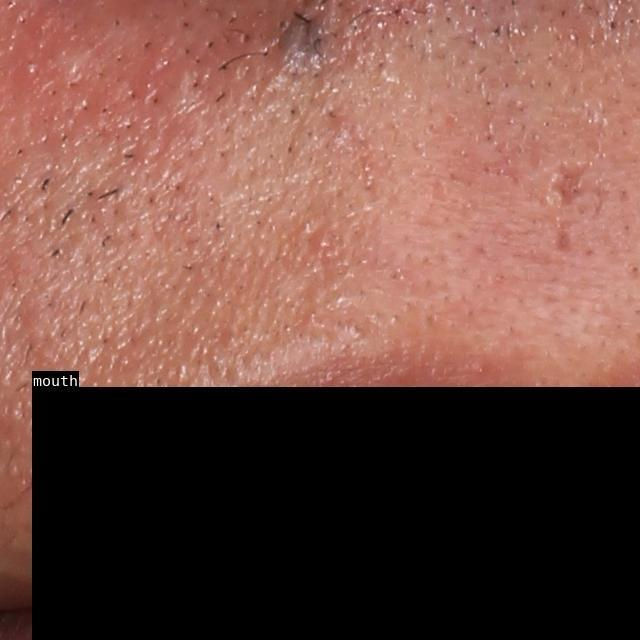atrophic_scar: (544, 145, 610, 223), (548, 224, 577, 255)
